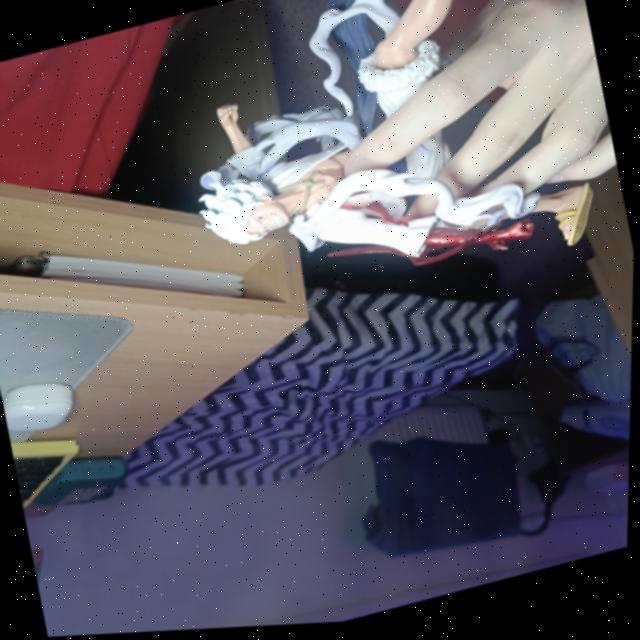luffy: (154, 0, 635, 345)
